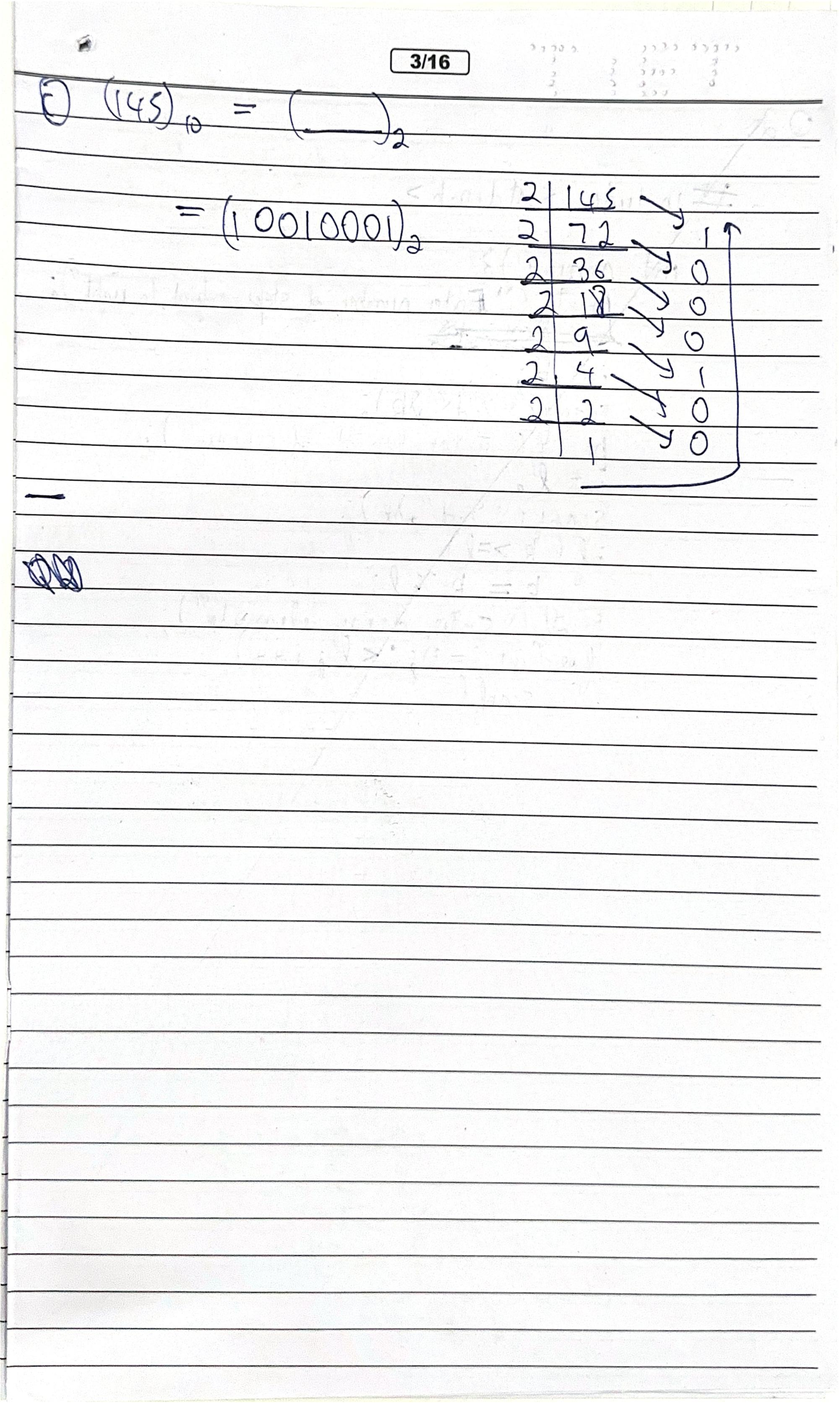cuttings: (21, 552, 84, 596)
